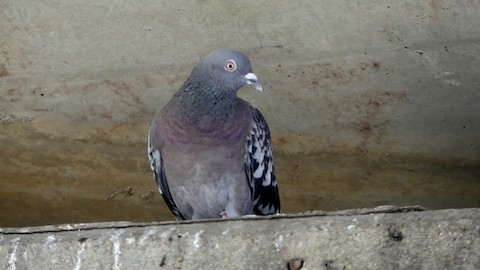pigeon: (143, 45, 292, 223)
